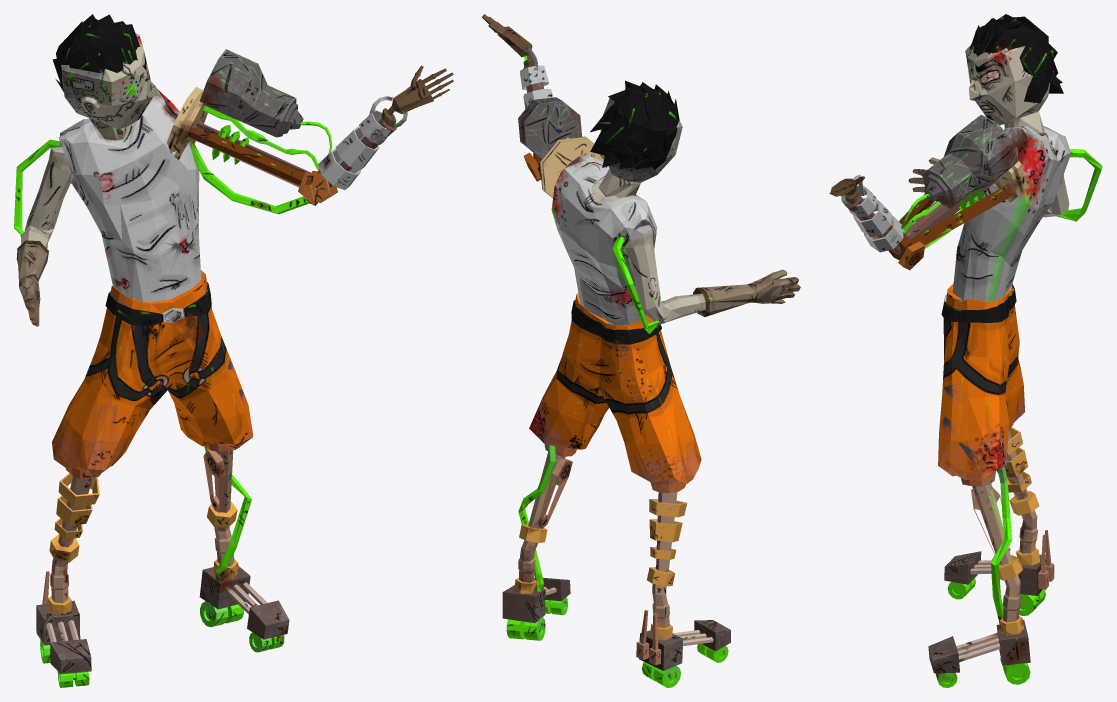
File: CyborgFINALAnimation_000040.obj
The picture shows the model from 3 angles, left to right: view 1: azimuth 30°, elevation 25°; view 2: azimuth 150°, elevation 25°; view 3: azimuth 270°, elevation 25°; orthographic projection. The views are drawn at different scales.
Visible parts, largest first — view 1: CyborgMesh_Cube.002; view 2: CyborgMesh_Cube.002; view 3: CyborgMesh_Cube.002.
Part boxes in pixels (box(x1,y1,x2,y2)): CyborgMesh_Cube.002: box(14, 14, 453, 687); CyborgMesh_Cube.002: box(482, 14, 800, 687); CyborgMesh_Cube.002: box(829, 14, 1102, 687).
Bounding box in the file's own units: 6.01 × 9.56 × 3.88.
